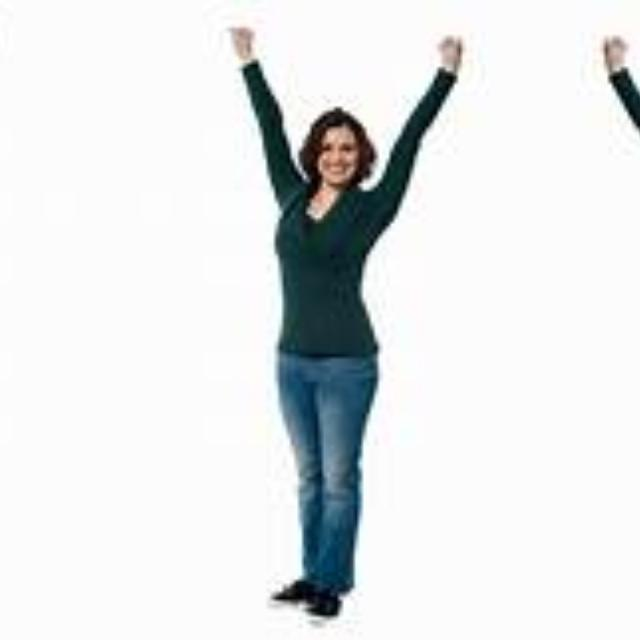person: (194, 22, 483, 640), (581, 22, 640, 640), (0, 22, 19, 640)
